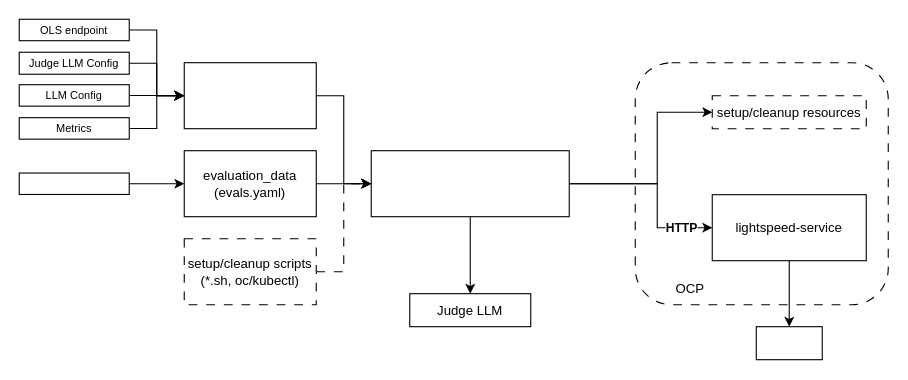
Some shapes in this 908 by 380 pixel diagram are drawn without their labels. The shapes that lost their labels are listed below. From the top down, each one's box as (x1, y1, x2, y2) in pixels, then its label:
(183, 62, 316, 129): system_config (system.yaml)
(18, 172, 129, 194): Conversations/Turns
(370, 150, 569, 217): ligthspeed-eval
(755, 326, 822, 360): LLM
